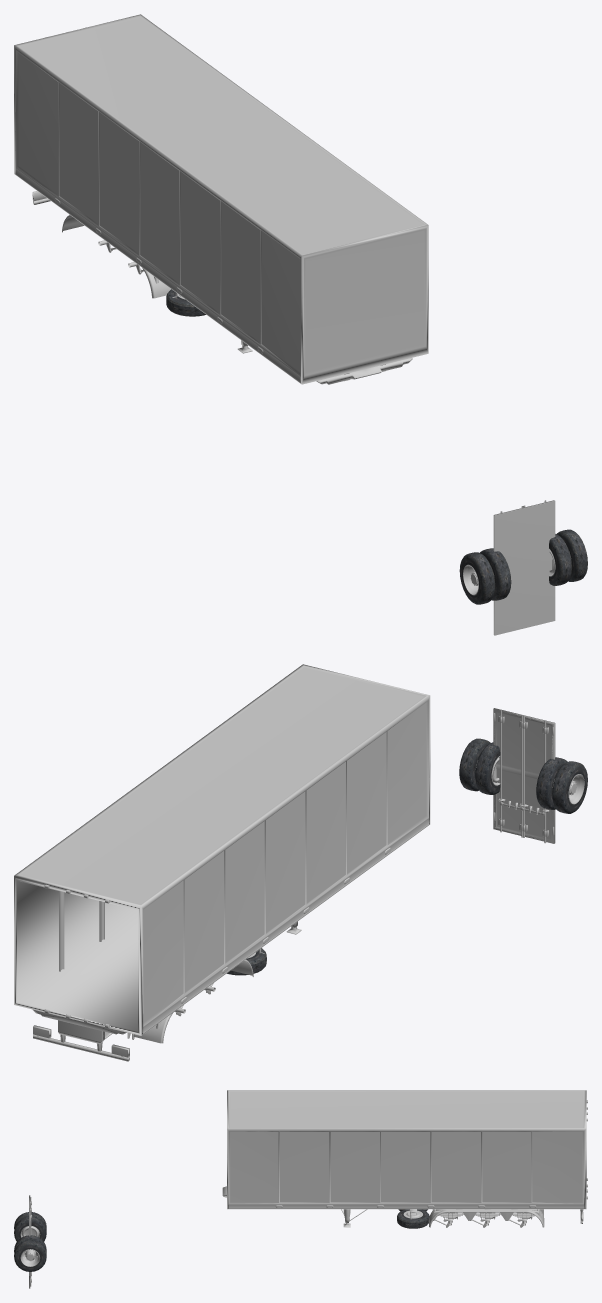
Rendered from trailer_new 1.fbx.
3 views of the same model, one above another, from view 1: azimuth 30°, elevation 25°; view 2: azimuth 150°, elevation 25°; view 3: azimuth 270°, elevation 25° (orthographic). The views are drawn at different scales.
Visible parts, largest first — view 1: trailer_main, door_right, wheels, door_left; view 2: trailer_main, door_right, wheels, door_left; view 3: trailer_main, wheels.
Part boxes in pixels (left/top/right/bottom): trailer_main: left=14, top=14, right=428, bottom=384; door_right: left=495, top=500, right=555, bottom=634; wheels: left=459, top=529, right=587, bottom=604; door_left: left=493, top=500, right=554, bottom=635; trailer_main: left=14, top=664, right=430, bottom=1061; door_right: left=493, top=708, right=554, bottom=843; wheels: left=459, top=738, right=587, bottom=813; door_left: left=493, top=708, right=555, bottom=843; trailer_main: left=222, top=1090, right=587, bottom=1228; wheels: left=14, top=1212, right=46, bottom=1271.
Bounding box in the file's own units: 247 × 506 × 1549.
